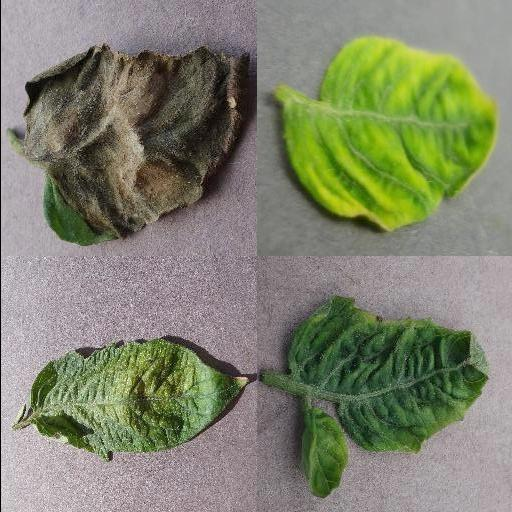Late Blight: (23, 43, 253, 247)
Spider Mites: (27, 338, 249, 464)
Yellow Leaf Curl Virus: (283, 36, 497, 232), (288, 297, 490, 454), (305, 414, 349, 500)
